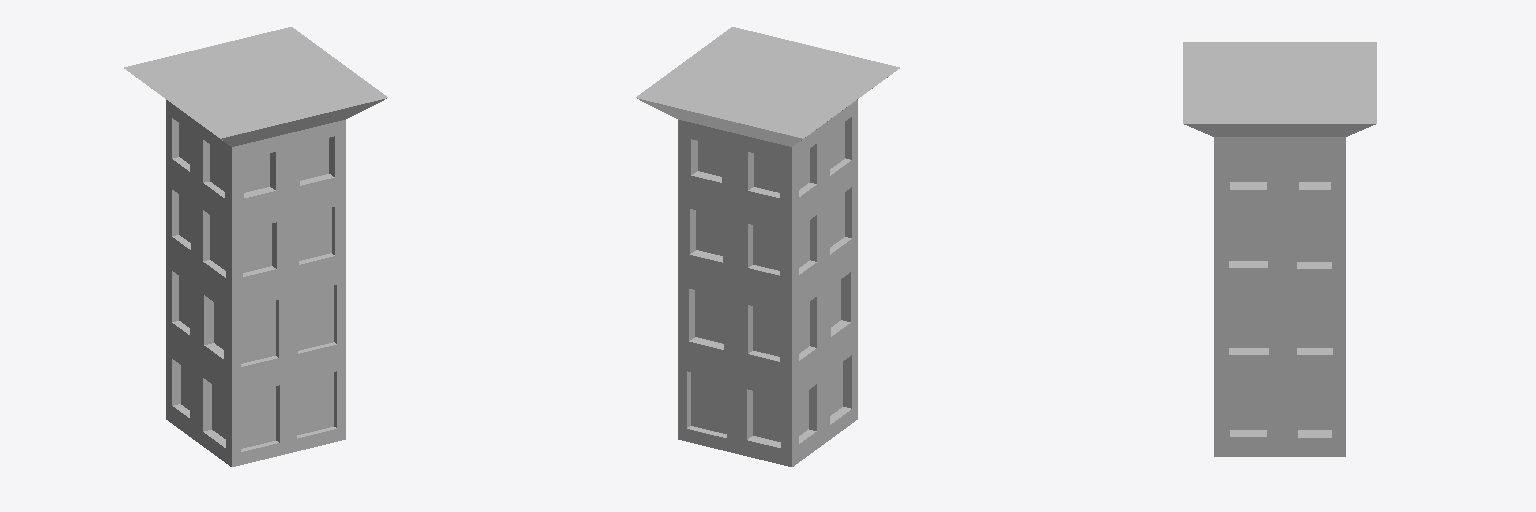
The model's file is Building_Mid.obj.
3 renders of one model, left to right at view 1: azimuth 30°, elevation 25°; view 2: azimuth 150°, elevation 25°; view 3: azimuth 270°, elevation 25°, orthographic.
Visible parts, largest first — view 1: pCube2; view 2: pCube2; view 3: pCube2.
Boxes of the visible parts, x1=… form: pCube2: x1=124, y1=27, x2=387, y2=466; pCube2: x1=636, y1=27, x2=899, y2=466; pCube2: x1=1183, y1=42, x2=1376, y2=456.
Size of the model in its own units: 22.02 by 43.29 by 22.02.